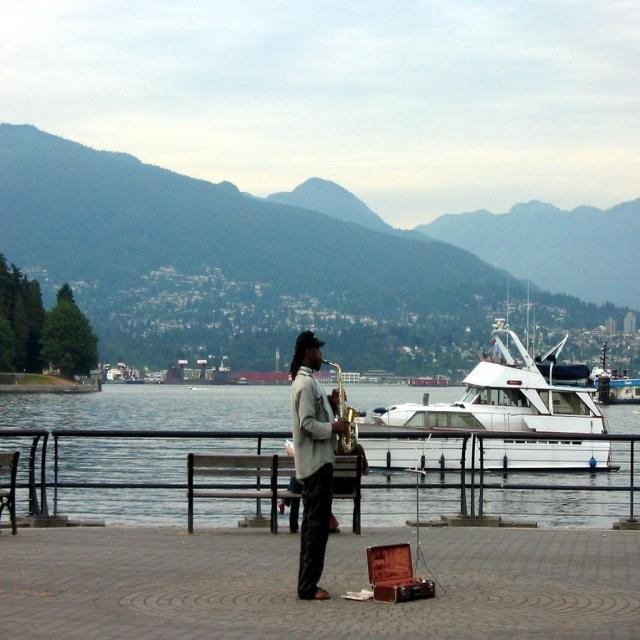saxophone: (318, 355, 361, 455)
